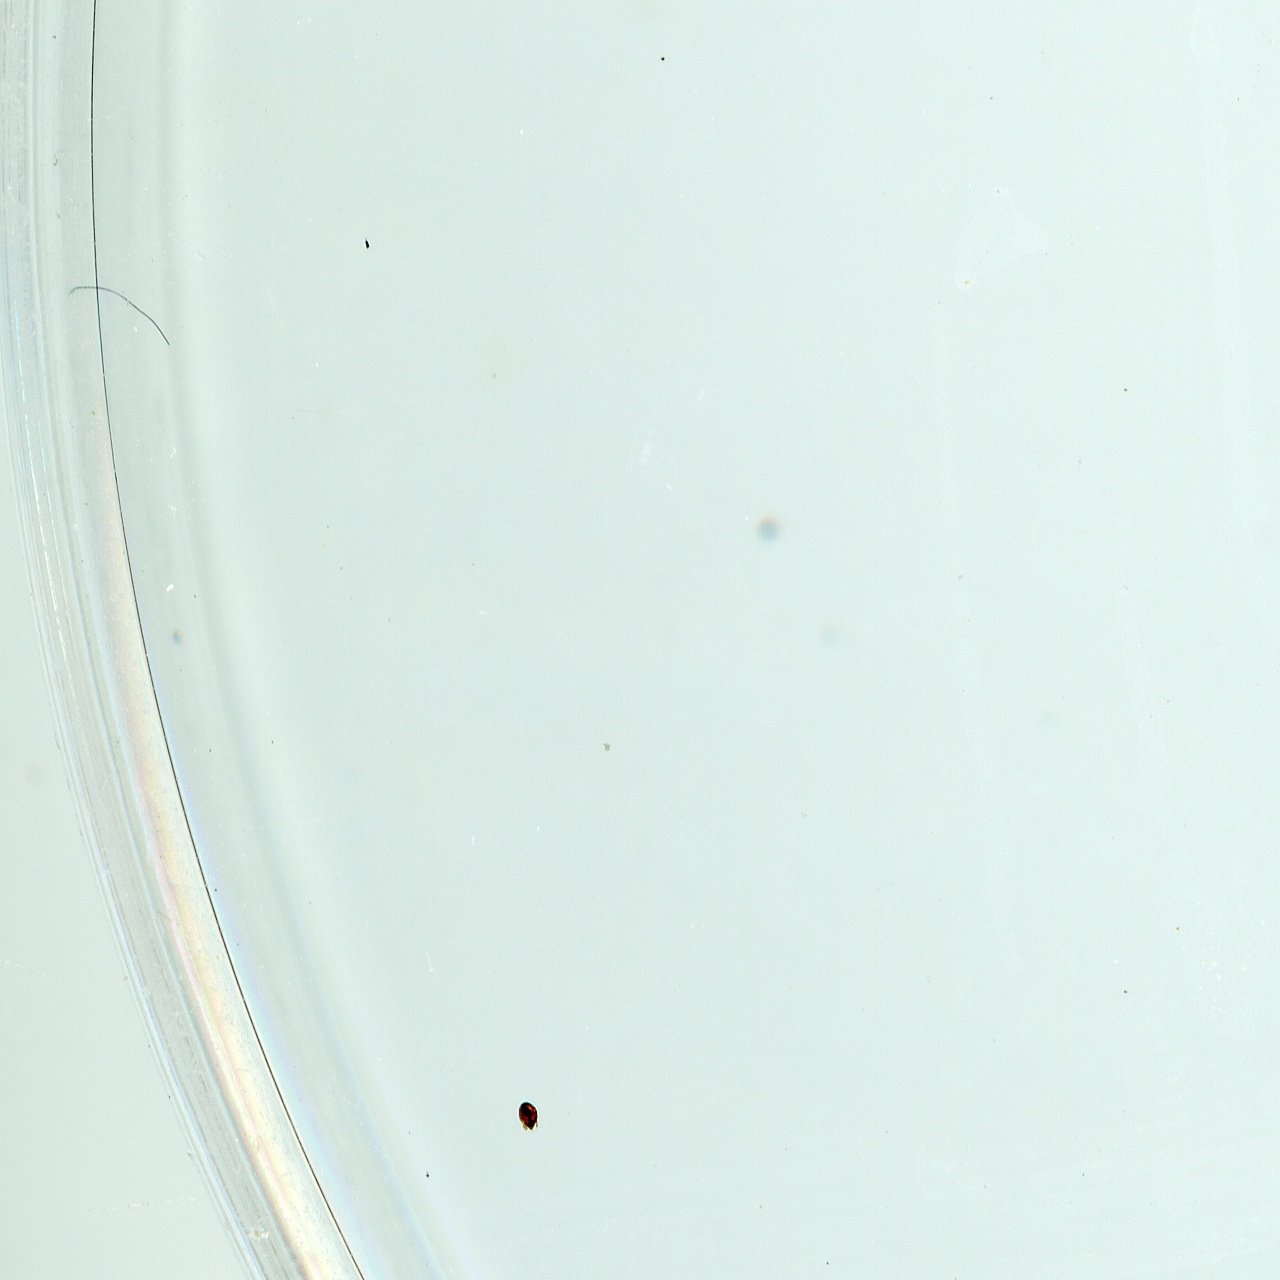arthropod: (516, 1101, 540, 1135)
